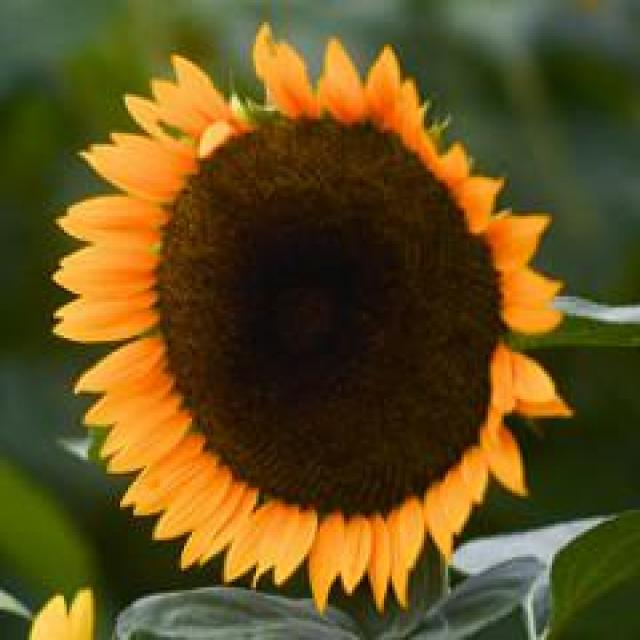sunflower: (53, 24, 566, 608)
